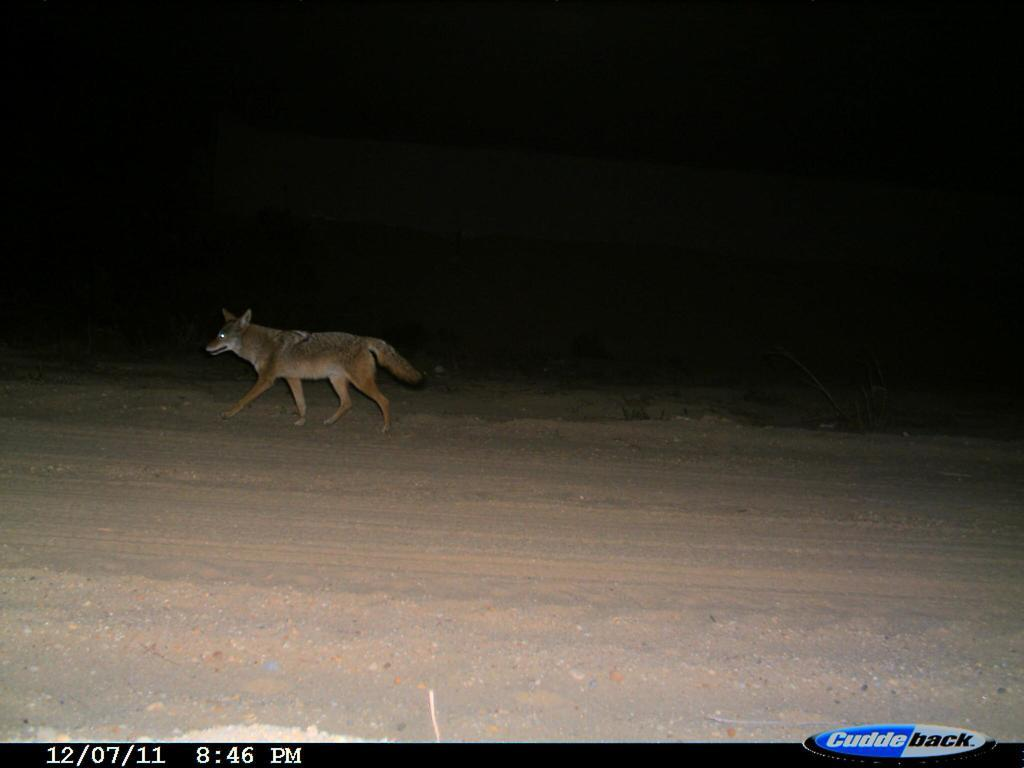coyote: (191, 294, 425, 434)
